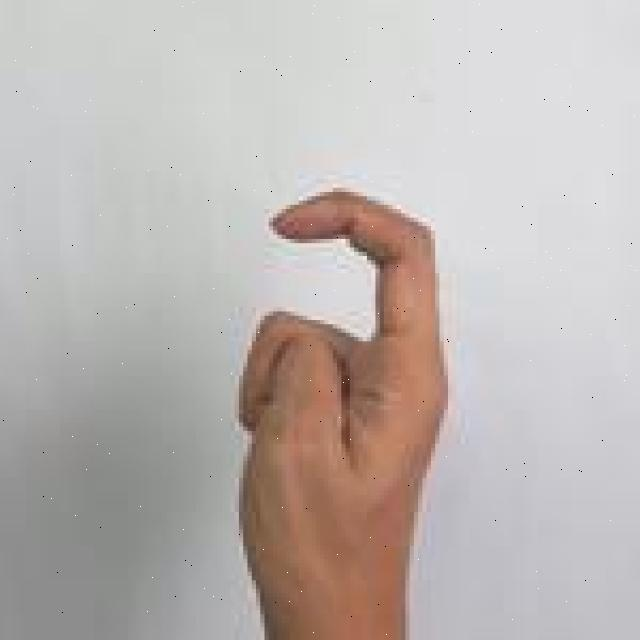X: (216, 182, 461, 640)
